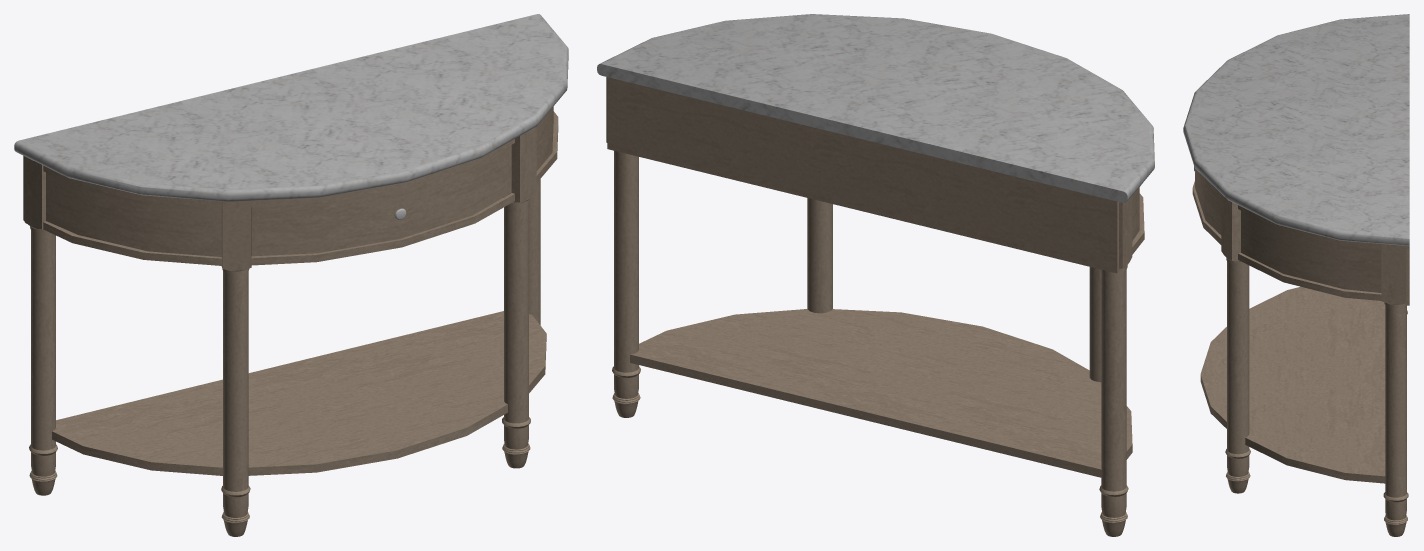
Rendered from console_table.glb.
3 views of the same model, side by side, from view 1: azimuth 30°, elevation 25°; view 2: azimuth 150°, elevation 25°; view 3: azimuth 270°, elevation 25° (orthographic). The views are drawn at different scales.
Parts seen in each view (by area): view 1: ConsoleTable_Cube_009; view 2: ConsoleTable_Cube_009; view 3: ConsoleTable_Cube_009.
Boxes of the visible parts, left/top/right/bottom form: ConsoleTable_Cube_009: left=14, top=14, right=568, bottom=536; ConsoleTable_Cube_009: left=597, top=14, right=1154, bottom=536; ConsoleTable_Cube_009: left=1183, top=14, right=1409, bottom=536.
Size of the model in its own units: 0.00122 by 0.000774 by 0.00052.
Materials: 2 (1 with a texture image).
